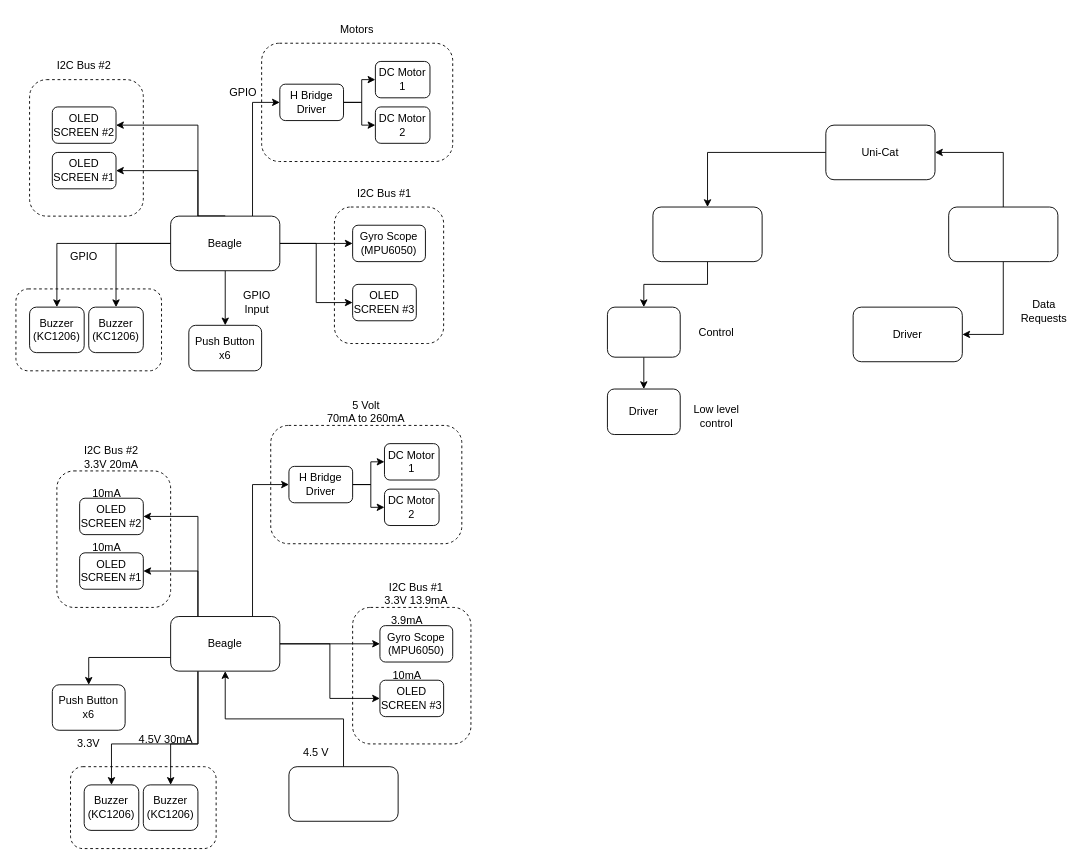
Some shapes in this 1087 by 865 pixel diagram are drawn without their labels. The shapes that lost their labels are listed below. From the top down, each one's centre as x and y in pixels, then its label:
(x=707, y=234): Services
(x=1003, y=234): Plugins
(x=643, y=331): Service
(x=343, y=793): 3 AA Battery Cell (~4.5 V)
